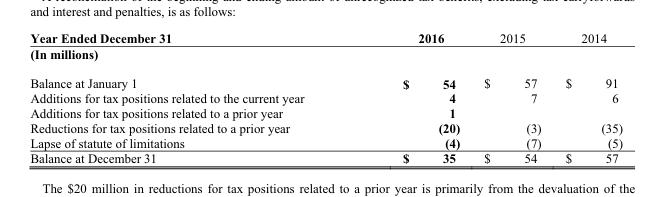table: (29, 29, 622, 166)
table column: (29, 29, 352, 166), (352, 29, 471, 166), (471, 29, 552, 166), (552, 29, 622, 166)
table column header: (29, 29, 622, 45)
table projected row header: (29, 45, 622, 68)
table row: (29, 45, 622, 68), (29, 68, 622, 90), (29, 29, 622, 45), (29, 134, 622, 150), (29, 150, 622, 166), (29, 90, 622, 105), (29, 105, 622, 120), (29, 120, 622, 134)
